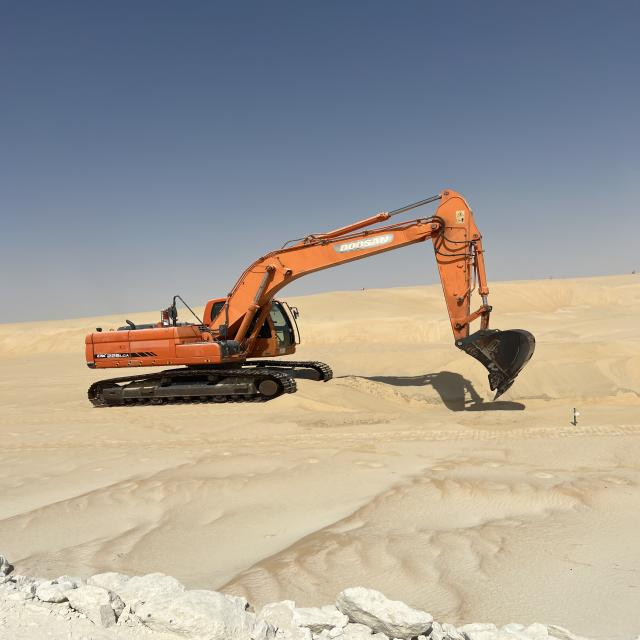Excavator: (83, 183, 538, 414)
